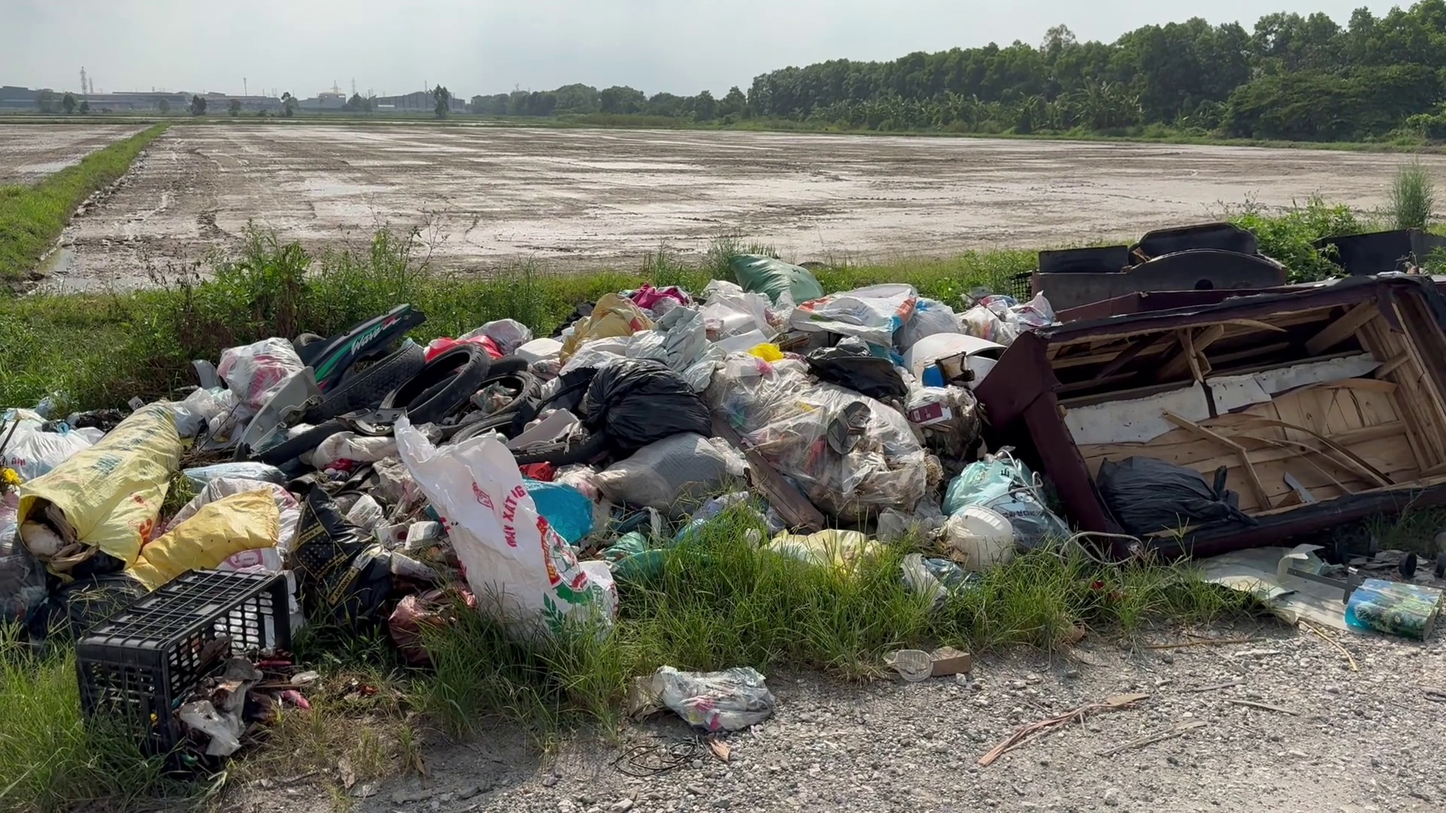garbage: (1027, 320, 1221, 444)
